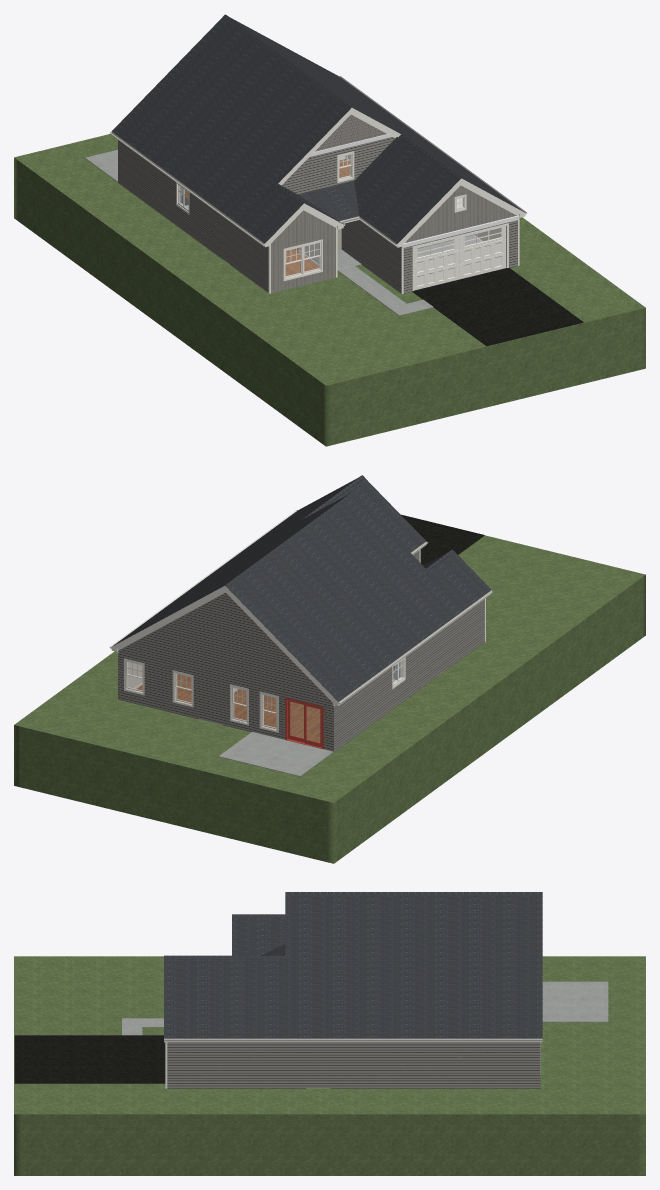
The model's file is house.dae.
The picture shows the model from 3 angles, top to bottom: view 1: azimuth 30°, elevation 25°; view 2: azimuth 150°, elevation 25°; view 3: azimuth 270°, elevation 25°; orthographic projection.
Parts seen in each view (by area): view 1: geo_161, geo_131, geo_138, geo_11, geo_169, geo_137, geo_148, geo_127, geo_139, geo_95, geo_71; view 2: geo_161, geo_131, geo_138, geo_11, geo_148, geo_127, geo_71, geo_169, geo_166; view 3: geo_161, geo_131, geo_138, geo_169, geo_148, geo_11.
Part boxes in pixels (x1,y1,x2,y2): geo_161: [14, 134, 645, 446]; geo_131: [111, 14, 524, 243]; geo_138: [118, 137, 517, 293]; geo_11: [110, 76, 526, 294]; geo_169: [412, 268, 583, 346]; geo_137: [271, 185, 516, 293]; geo_148: [85, 149, 481, 315]; geo_127: [179, 155, 500, 275]; geo_139: [315, 114, 386, 151]; geo_95: [308, 133, 519, 248]; geo_71: [182, 159, 349, 275]; geo_161: [14, 535, 645, 863]; geo_131: [112, 475, 491, 701]; geo_138: [118, 550, 484, 751]; geo_11: [110, 510, 493, 732]; geo_148: [219, 732, 333, 776]; geo_127: [127, 660, 402, 742]; geo_71: [137, 674, 320, 742]; geo_169: [401, 514, 484, 565]; geo_166: [285, 697, 323, 749]; geo_161: [14, 956, 645, 1175]; geo_131: [164, 892, 542, 1038]; geo_138: [167, 1042, 540, 1088]; geo_169: [14, 1035, 165, 1083]; geo_148: [122, 981, 608, 1035]; geo_11: [164, 1038, 542, 1088].
Bounding box in the file's own units: 660 × 1115 × 399.
Materials: 48 (23 with a texture image).
